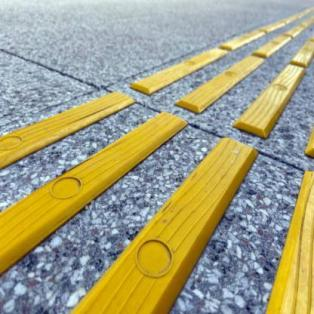Podoctatil: (0, 1, 314, 313)
